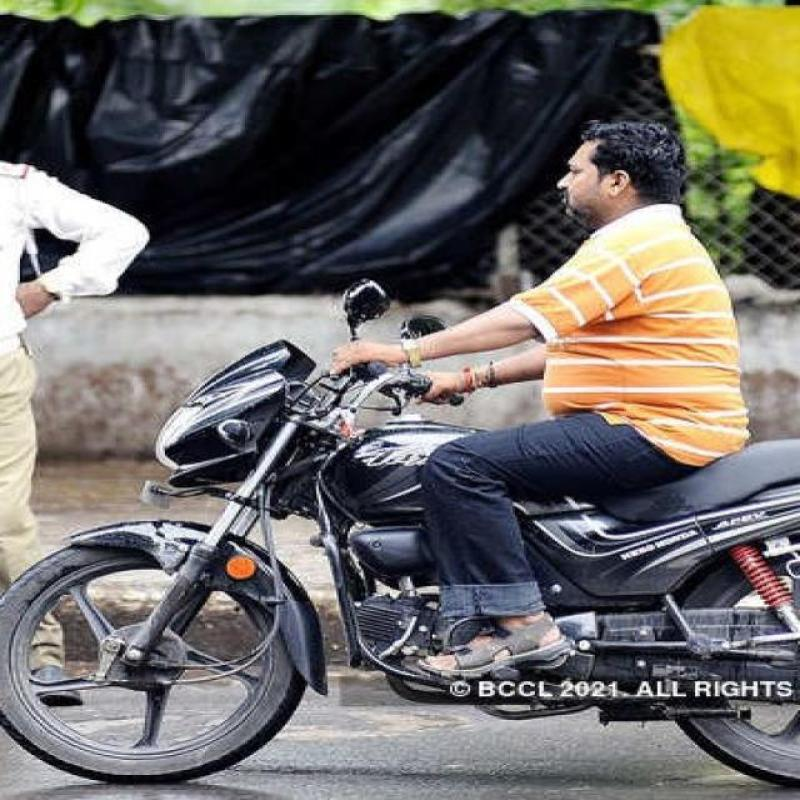nohelmet: (540, 123, 704, 230)
